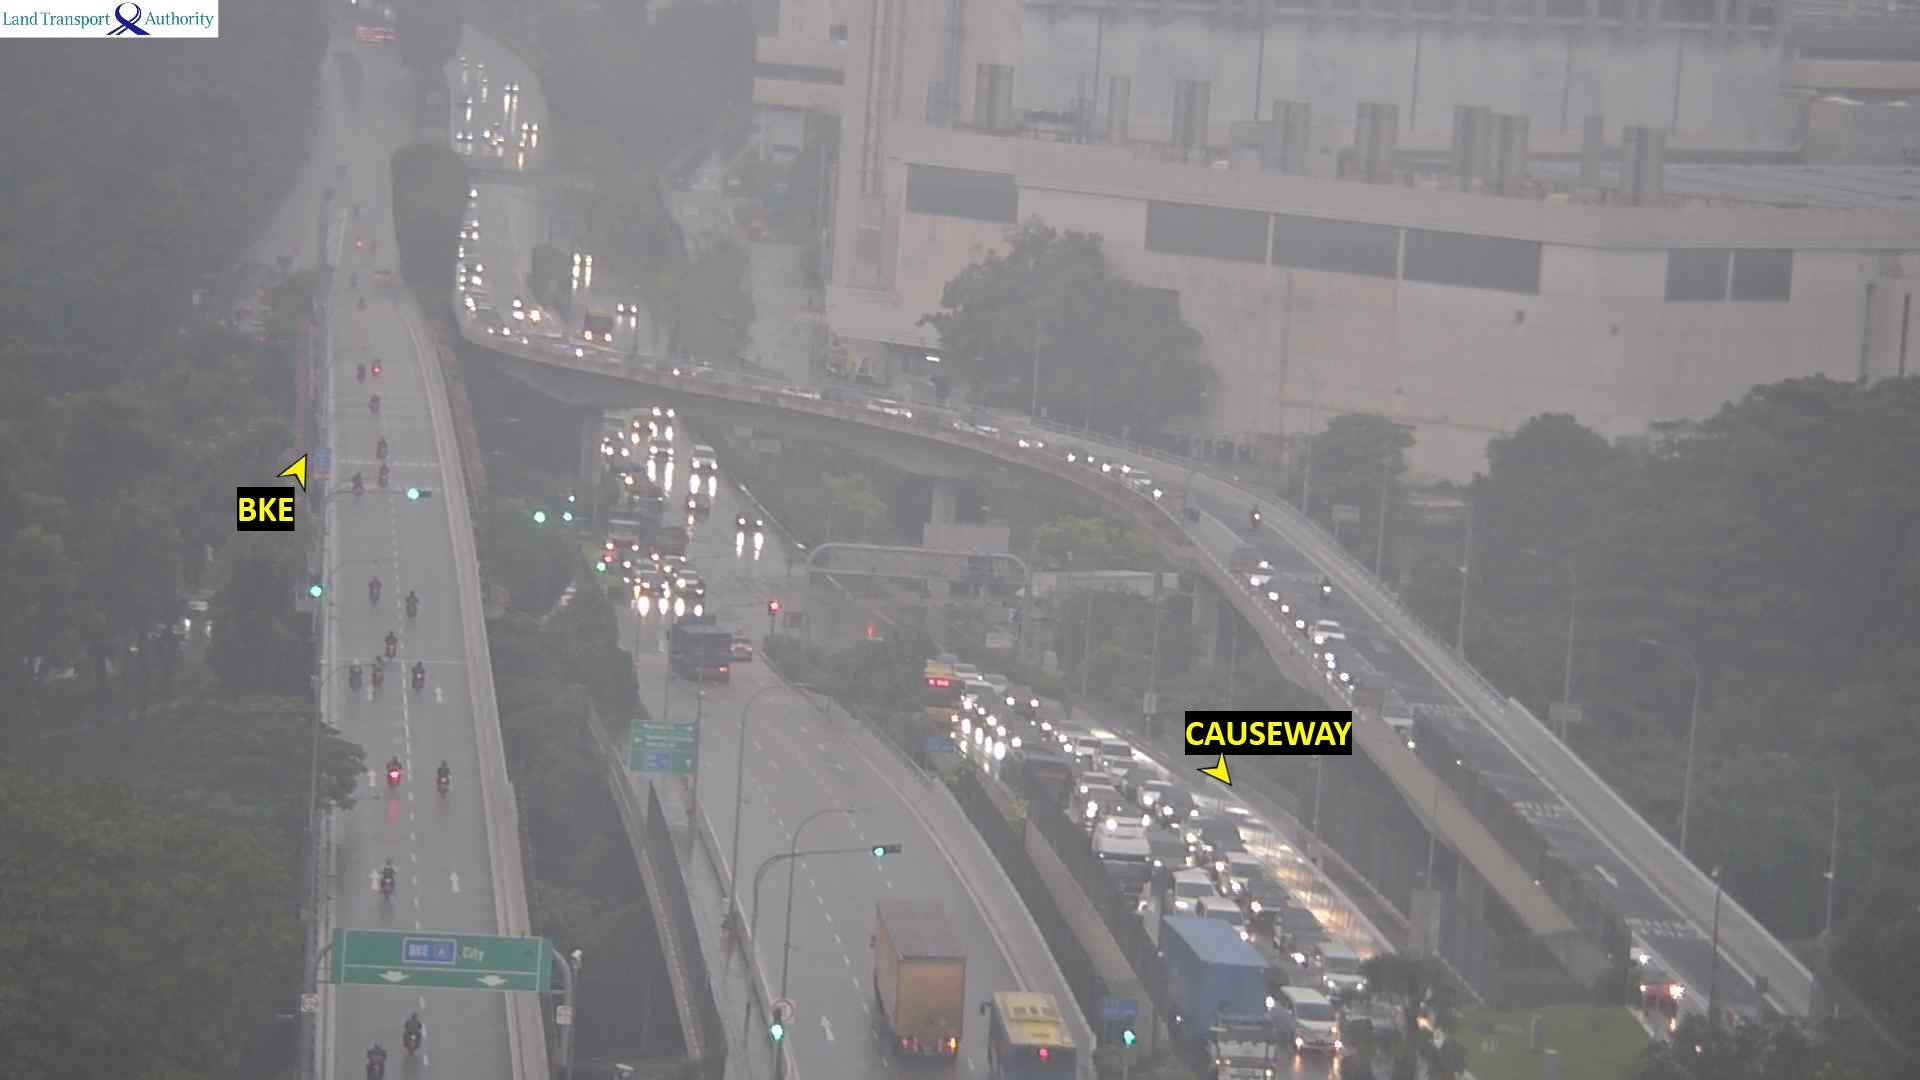vehicle-causeway-johor: (1163, 917, 1274, 1080), (1277, 990, 1341, 1049), (1311, 942, 1366, 1001), (1275, 908, 1325, 965), (1065, 773, 1124, 818), (926, 665, 961, 722), (1217, 853, 1263, 895), (1163, 874, 1215, 911), (1200, 825, 1248, 863), (1106, 816, 1147, 859), (1244, 884, 1287, 922), (998, 731, 1051, 760), (1155, 792, 1199, 826), (1180, 818, 1226, 846), (1093, 741, 1131, 771), (1055, 725, 1094, 752), (1112, 758, 1154, 783), (865, 404, 916, 424), (1309, 619, 1343, 646), (1072, 736, 1110, 760), (1136, 779, 1172, 802), (691, 446, 719, 472), (783, 390, 830, 405), (683, 490, 711, 514), (1011, 438, 1049, 452), (736, 510, 762, 528), (1122, 473, 1154, 485), (462, 274, 486, 290), (666, 365, 690, 380), (1322, 577, 1334, 603), (1100, 458, 1120, 473), (1253, 507, 1264, 527), (516, 299, 524, 314)
vehicle-causeway-singapore: (873, 899, 961, 1059), (991, 993, 1078, 1062), (664, 619, 734, 679), (404, 1011, 422, 1050), (367, 1044, 386, 1079), (378, 859, 394, 897), (405, 591, 422, 622), (389, 760, 406, 790), (387, 632, 401, 664), (435, 763, 447, 795), (414, 661, 426, 690), (350, 659, 361, 690), (371, 657, 383, 684), (367, 577, 376, 607), (376, 436, 389, 456), (363, 362, 375, 379), (380, 466, 389, 484), (416, 487, 427, 500), (368, 397, 374, 416), (357, 363, 364, 379), (358, 298, 366, 309)
